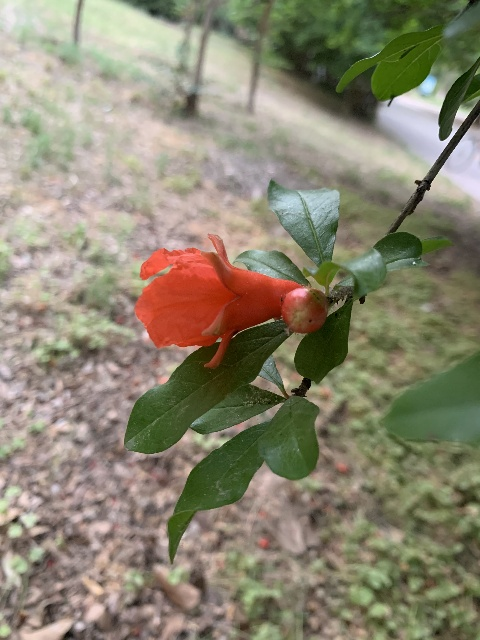bud: (282, 287, 326, 334)
flower: (134, 232, 304, 369)
